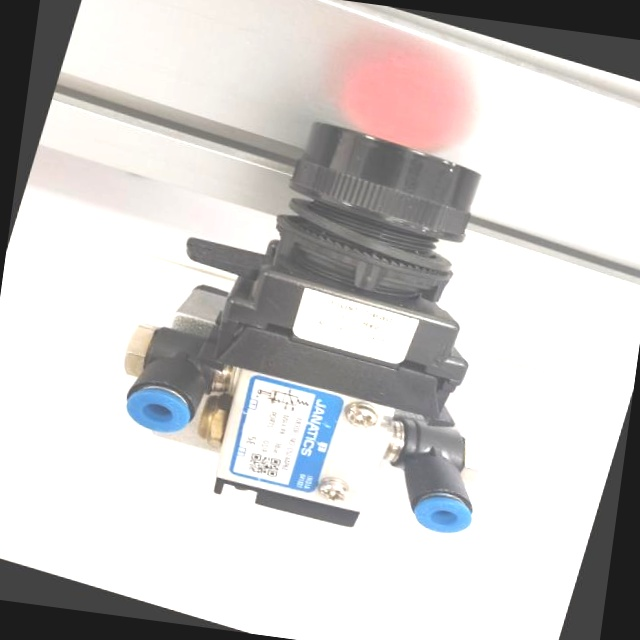push button: (85, 76, 579, 574)
